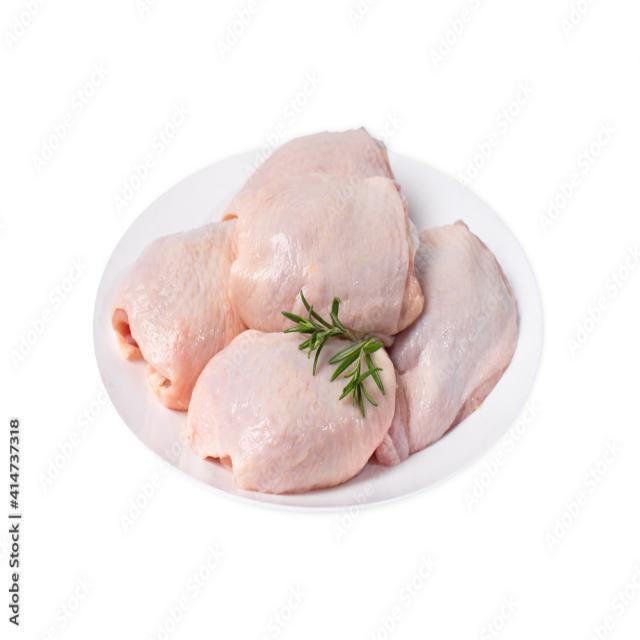thigh: (186, 322, 394, 496), (373, 224, 518, 462), (234, 173, 412, 348), (108, 208, 248, 410), (212, 138, 404, 214)
